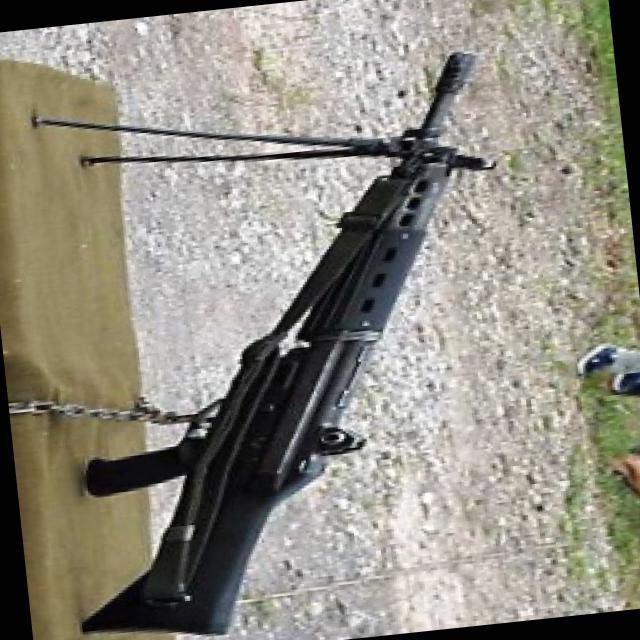long weapon: (30, 40, 536, 639)
